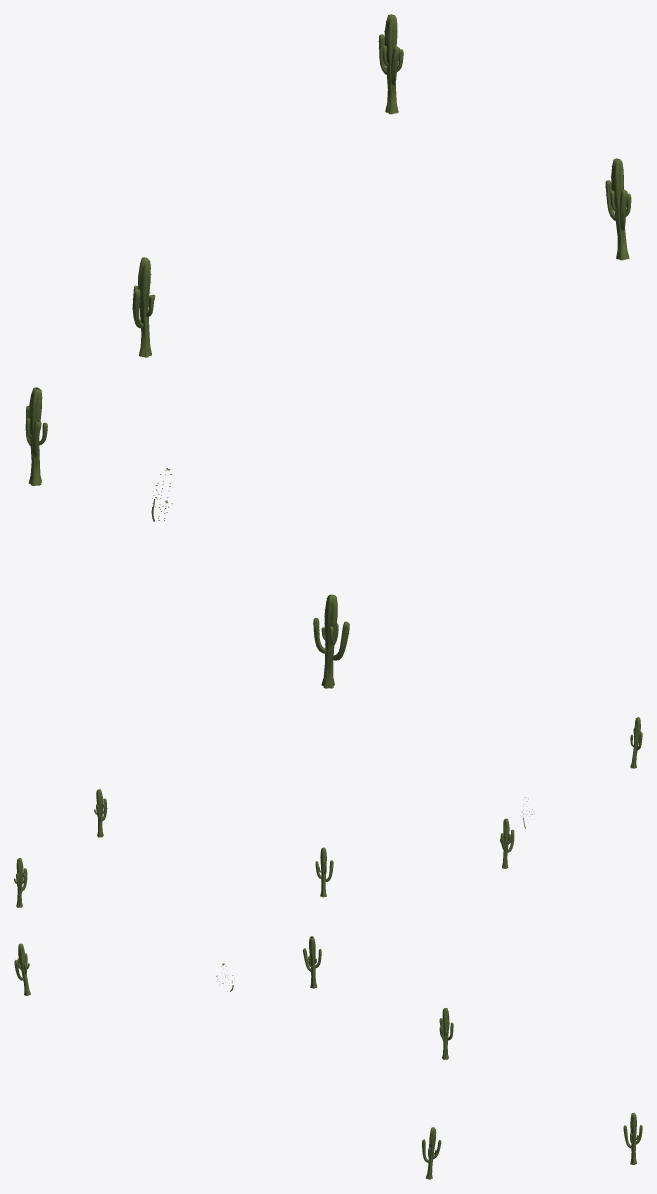
3 renders of one model, top to bottom at view 1: azimuth 30°, elevation 25°; view 2: azimuth 150°, elevation 25°; view 3: azimuth 270°, elevation 25°, orthographic. The views are drawn at different scales.
Parts seen in each view (by area): view 1: _gltfNode_10; view 2: _gltfNode_10; view 3: _gltfNode_10.
Part boxes in pixels (bbox=[...]): _gltfNode_10: bbox=[25, 14, 631, 688]; _gltfNode_10: bbox=[14, 717, 642, 907]; _gltfNode_10: bbox=[14, 936, 642, 1179].
Bounding box in the file's own units: 1362 × 224 × 1986.
Materials: 1 (1 with a texture image).
